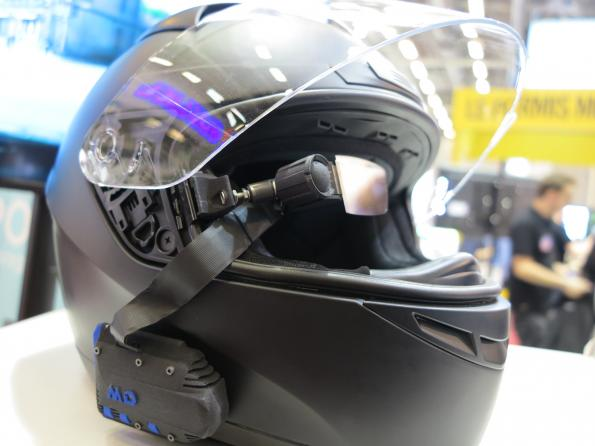with_helmet: (42, 1, 539, 445)
